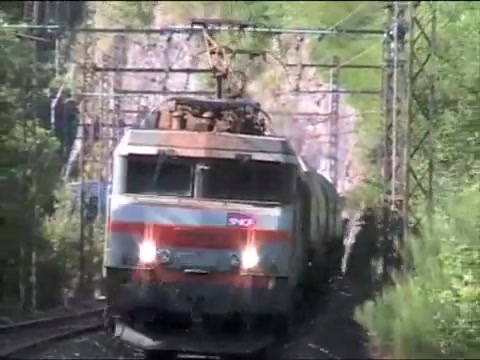train: (104, 89, 348, 359)
